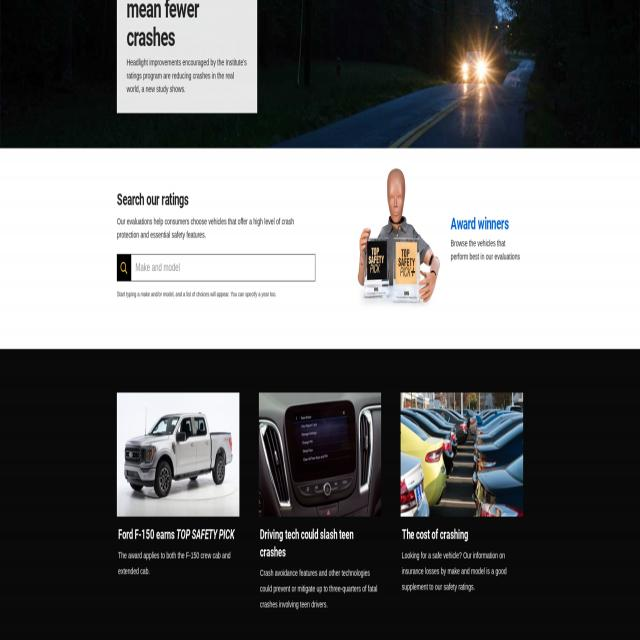button: (117, 392, 239, 516), (259, 392, 381, 516), (401, 392, 523, 516), (354, 161, 441, 319), (116, 252, 132, 280)
field: (131, 254, 315, 282)
